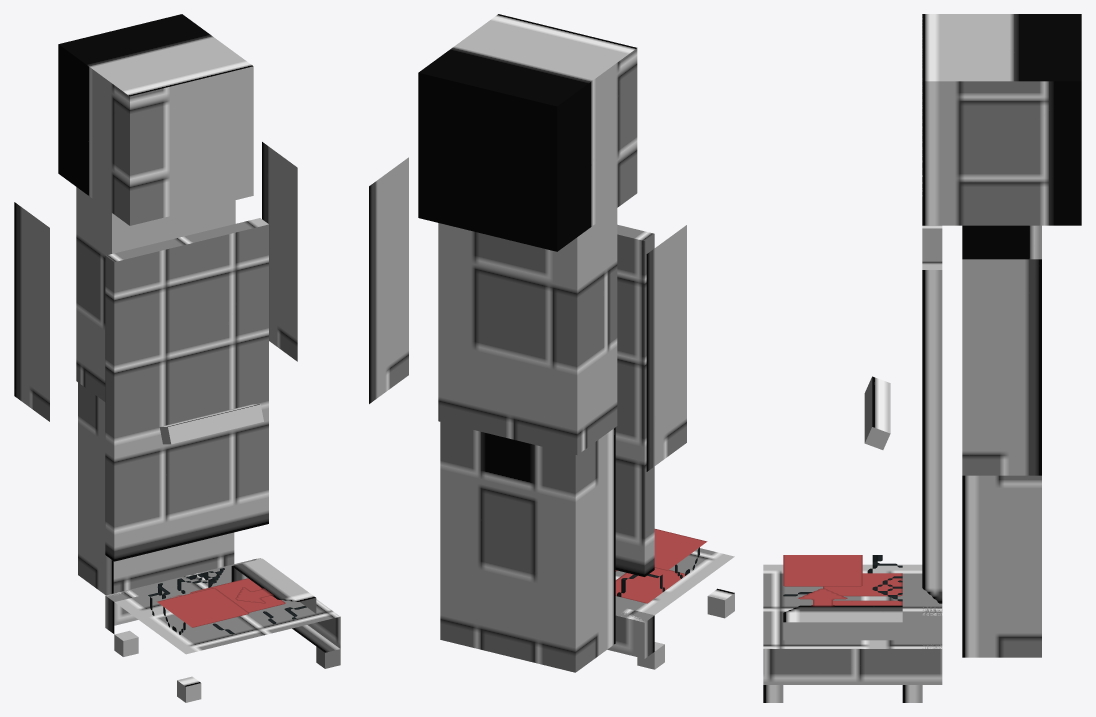
The model's file is suit_stand.obj.
The picture shows the model from 3 angles, left to right: view 1: azimuth 30°, elevation 25°; view 2: azimuth 150°, elevation 25°; view 3: azimuth 270°, elevation 25°; orthographic projection. The views are drawn at different scales.
Visible parts, largest first — view 1: back, head, chest, plate2, leftLeg, leftArm, rightArm, plate3, stripe3, rightLeg, wheel2, wheel1; view 2: head, chest, leftLeg, rightLeg, back, leftArm, rightArm, plate2, plate3, wheel1; view 3: head, rightArm, rightLeg, plate2, plate3, back, chest, stripe3.
Part boxes in pixels (<box>): back: <box>105,218,268,601</box>; head: <box>58,14,253,225</box>; chest: <box>76,187,235,401</box>; plate2: <box>105,558,340,654</box>; leftLeg: <box>78,382,175,595</box>; leftArm: <box>14,202,49,421</box>; rightArm: <box>262,142,297,361</box>; plate3: <box>148,558,316,634</box>; stripe3: <box>159,404,263,444</box>; rightLeg: <box>172,532,234,578</box>; wheel2: <box>114,630,138,656</box>; wheel1: <box>177,676,201,702</box>; head: <box>418,14,637,251</box>; chest: <box>438,208,617,454</box>; leftLeg: <box>506,427,615,672</box>; rightLeg: <box>440,422,509,655</box>; back: <box>615,224,654,622</box>; leftArm: <box>646,225,686,471</box>; rightArm: <box>369,157,408,403</box>; plate2: <box>607,548,734,658</box>; plate3: <box>615,529,707,603</box>; wheel1: <box>707,588,734,618</box>; head: <box>922,14,1081,225</box>; rightArm: <box>962,259,1041,475</box>; rightLeg: <box>962,475,1041,657</box>; plate2: <box>763,564,942,684</box>; plate3: <box>783,555,902,640</box>; back: <box>922,225,942,648</box>; chest: <box>962,225,1041,259</box>; stripe3: <box>864,376,890,449</box>.
Bounding box in the file's own units: 0.85 × 1.81 × 0.85.
